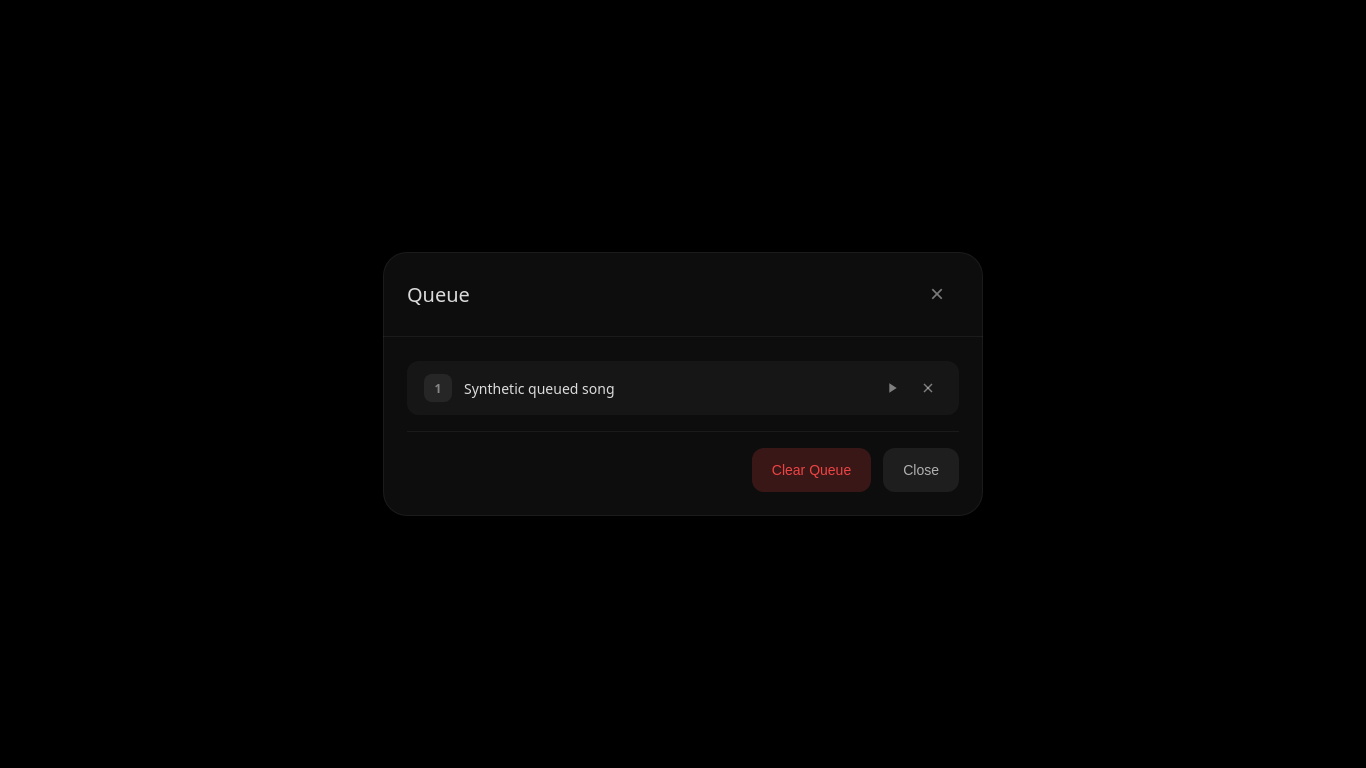
Queue action acknowledgement shape and preserved success › accepts a wrapped canonical clear acknowledgement
Check: the text "Synthetic queued song" is shown, box left=464, top=378, right=614, bottom=398
Click the button "Clear Queue" at point(812, 470), box left=752, top=448, right=871, bottom=492
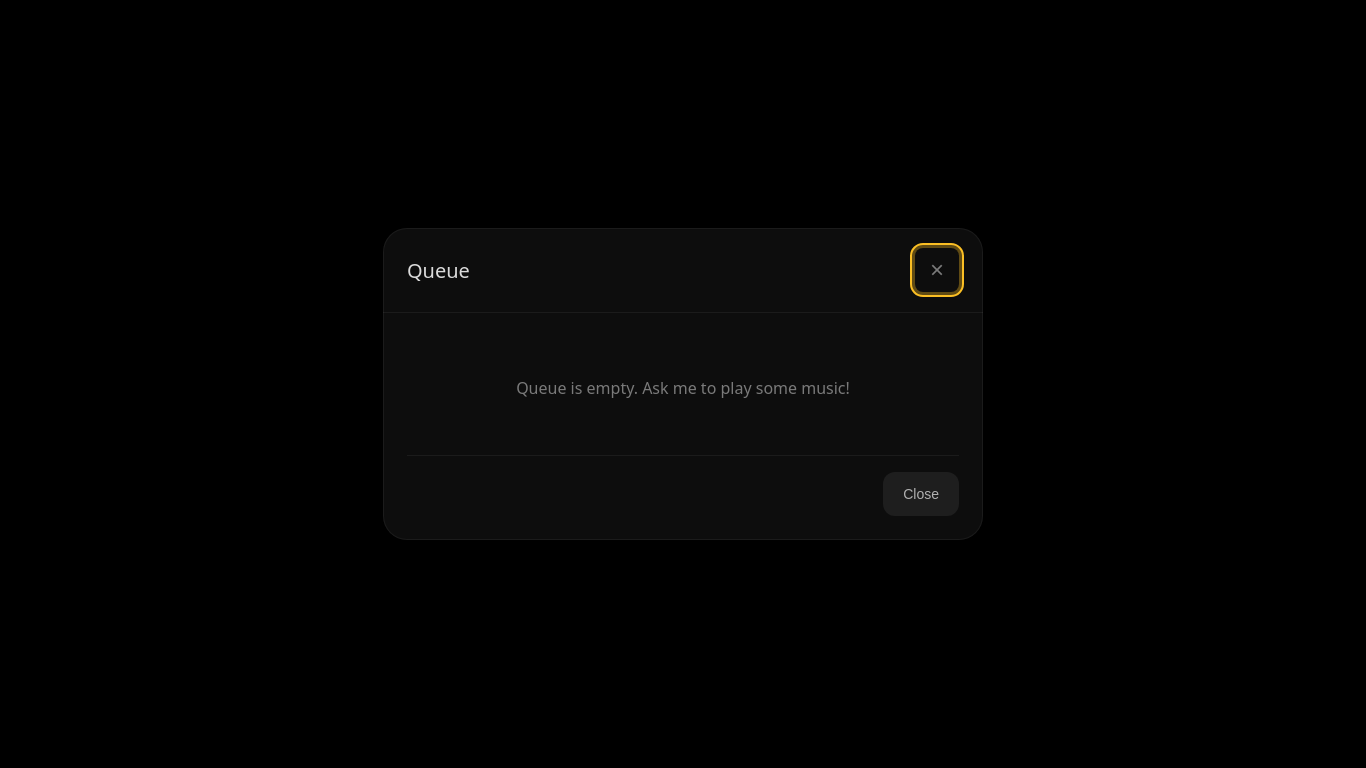
Check: the text "Synthetic queued song" is gone
